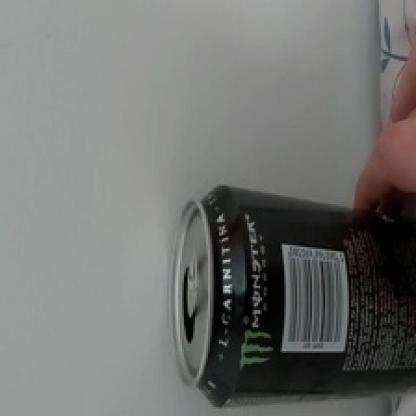Can: (172, 185, 416, 409)
